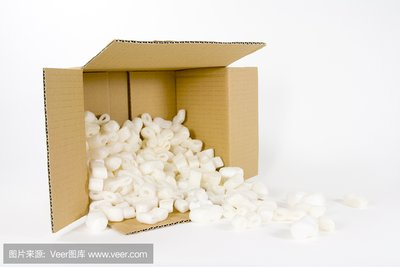5/可回收垃圾/泡沫: (43, 40, 357, 236)
